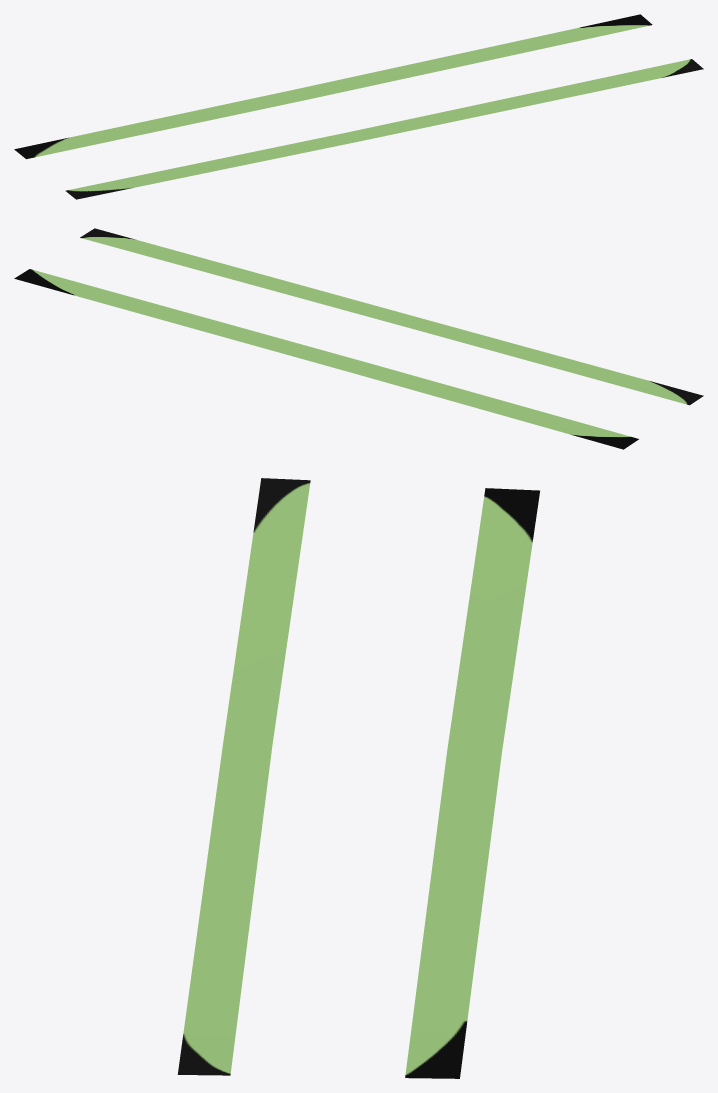
File: green_plate.fbx
The picture shows the model from 3 angles, top to bottom: view 1: azimuth 30°, elevation 25°; view 2: azimuth 150°, elevation 25°; view 3: azimuth 270°, elevation 25°; orthographic projection. The views are drawn at different scales.
Parts seen in each view (by area): view 1: green_plane_left, green_plane_right; view 2: green_plane_left, green_plane_right; view 3: green_plane_left, green_plane_right.
Part boxes in pixels (left/top/right/bottom): green_plane_left: left=14, top=14, right=652, bottom=159; green_plane_right: left=65, top=59, right=703, bottom=199; green_plane_left: left=14, top=269, right=638, bottom=449; green_plane_right: left=80, top=228, right=703, bottom=405; green_plane_left: left=405, top=488, right=539, bottom=1078; green_plane_right: left=177, top=478, right=310, bottom=1075.
Size of the model in its own units: 5836 by 23.29 by 1492.
Materials: 2 (2 with a texture image).
